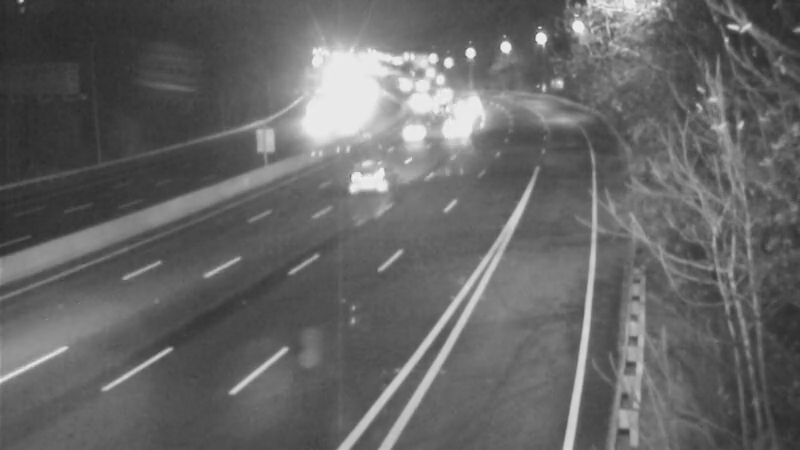vehicle: (319, 144, 399, 224), (396, 81, 446, 131), (442, 79, 492, 129), (434, 82, 484, 132), (430, 104, 480, 154), (391, 104, 441, 154), (290, 104, 340, 154)
